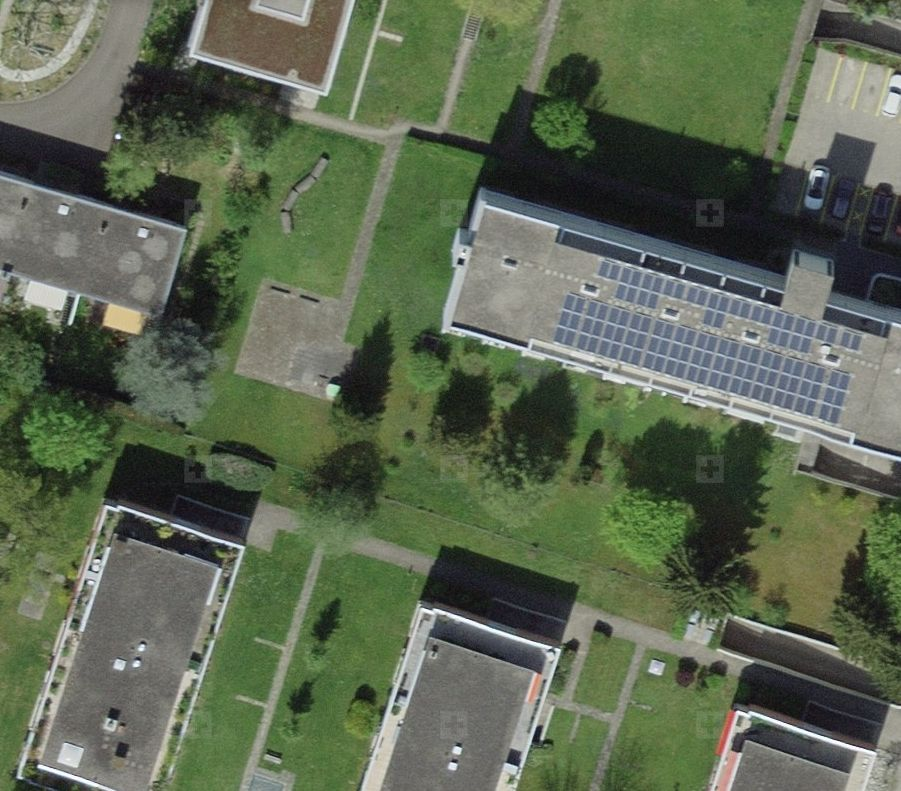solar: (552, 257, 863, 426)
